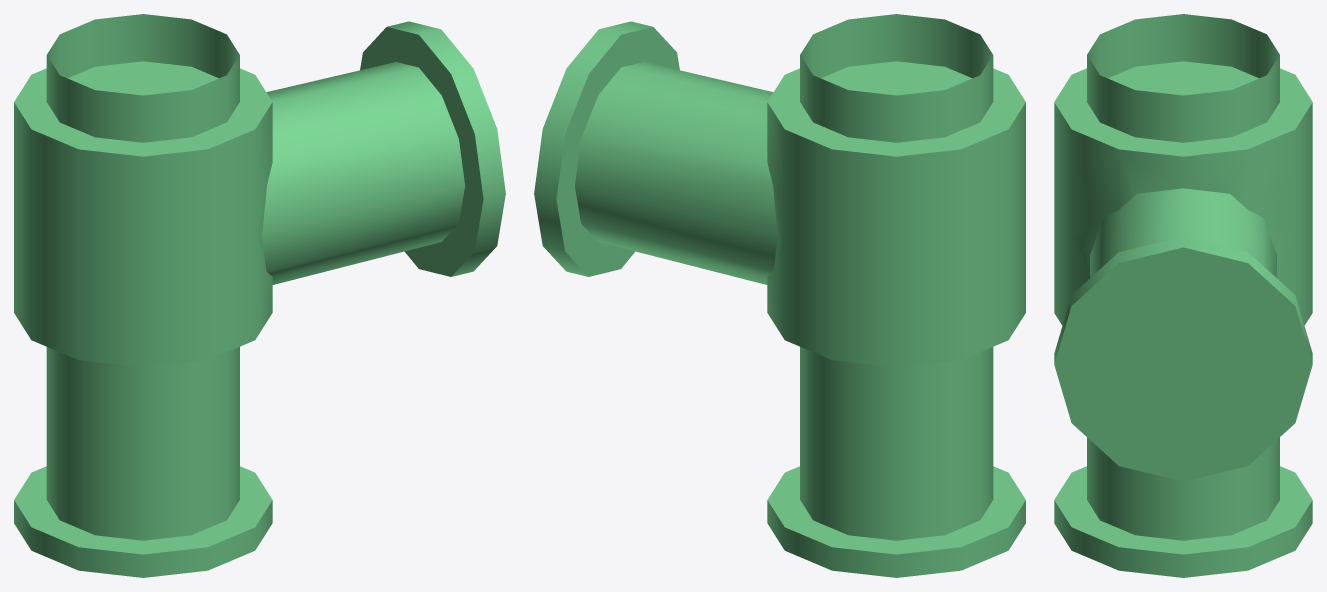
File: Pipe_Basic_3Way.fbx
The picture shows the model from 3 angles, left to right: view 1: azimuth 30°, elevation 25°; view 2: azimuth 150°, elevation 25°; view 3: azimuth 270°, elevation 25°; orthographic projection.
Parts seen in each view (by area): view 1: Pipe_Basic_3Way; view 2: Pipe_Basic_3Way; view 3: Pipe_Basic_3Way.
Part boxes in pixels (x1=…): Pipe_Basic_3Way: x1=14, y1=14, x2=505, y2=577; Pipe_Basic_3Way: x1=534, y1=14, x2=1025, y2=577; Pipe_Basic_3Way: x1=1054, y1=14, x2=1312, y2=577.
Size of the model in its own units: 137 by 150 by 75.
